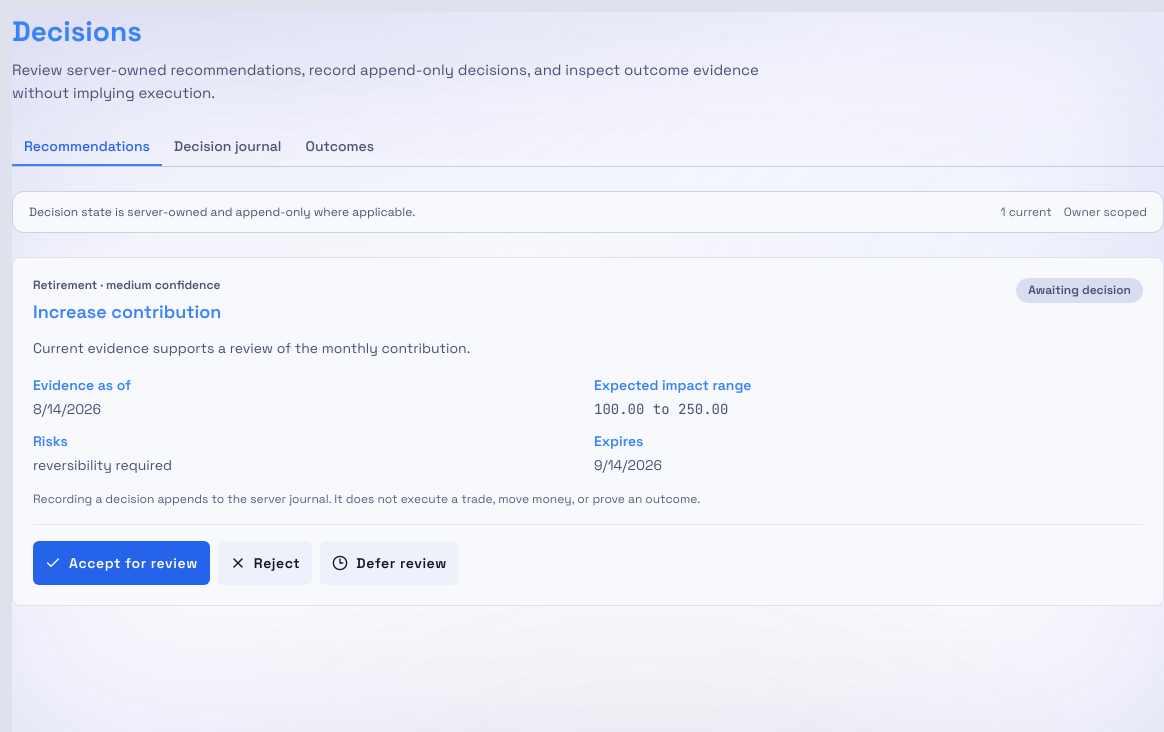
Test: Decisions destination › keeps stale decision conflicts visible and sanitized
The width and height of the screenshot is (1164, 732).
Expected: the heading "Increase contribution" is shown, x1=33 y1=298 x2=221 y2=325
Click the button "Accept for review".
click(121, 563)  # box x1=33 y1=541 x2=210 y2=585
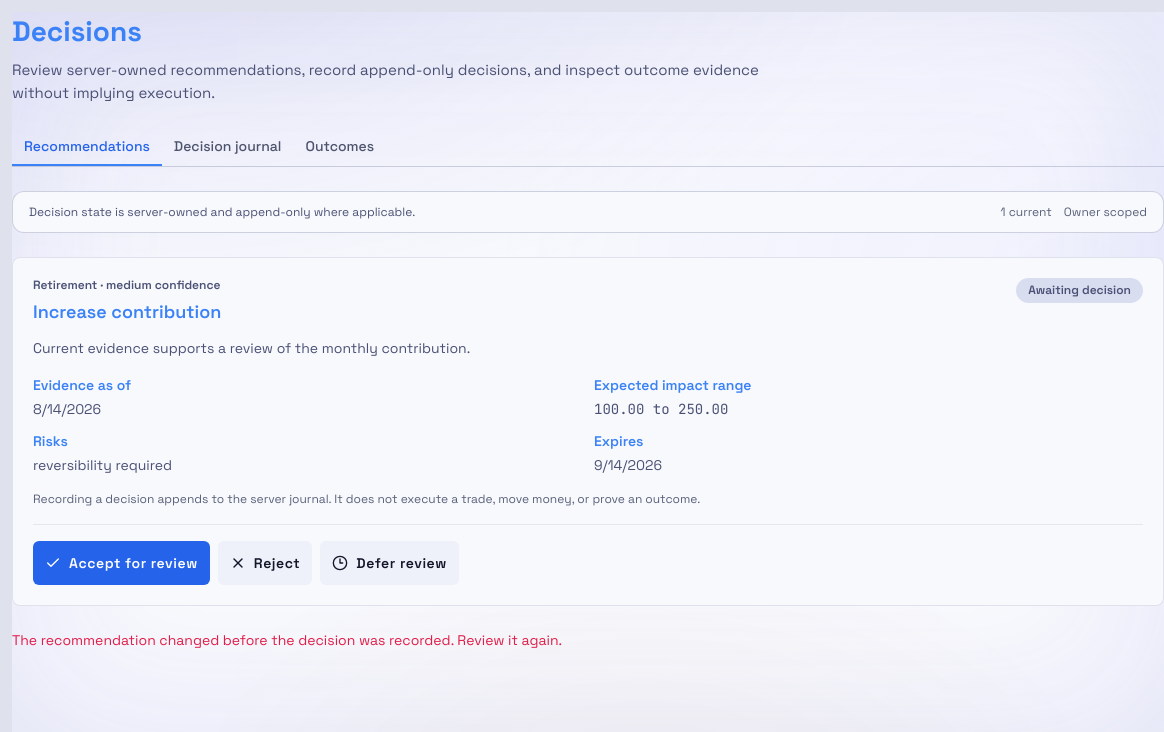
Now the text "The recommendation changed before the decision was recorded. Review it again." is shown, box x1=12 y1=631 x2=562 y2=649
